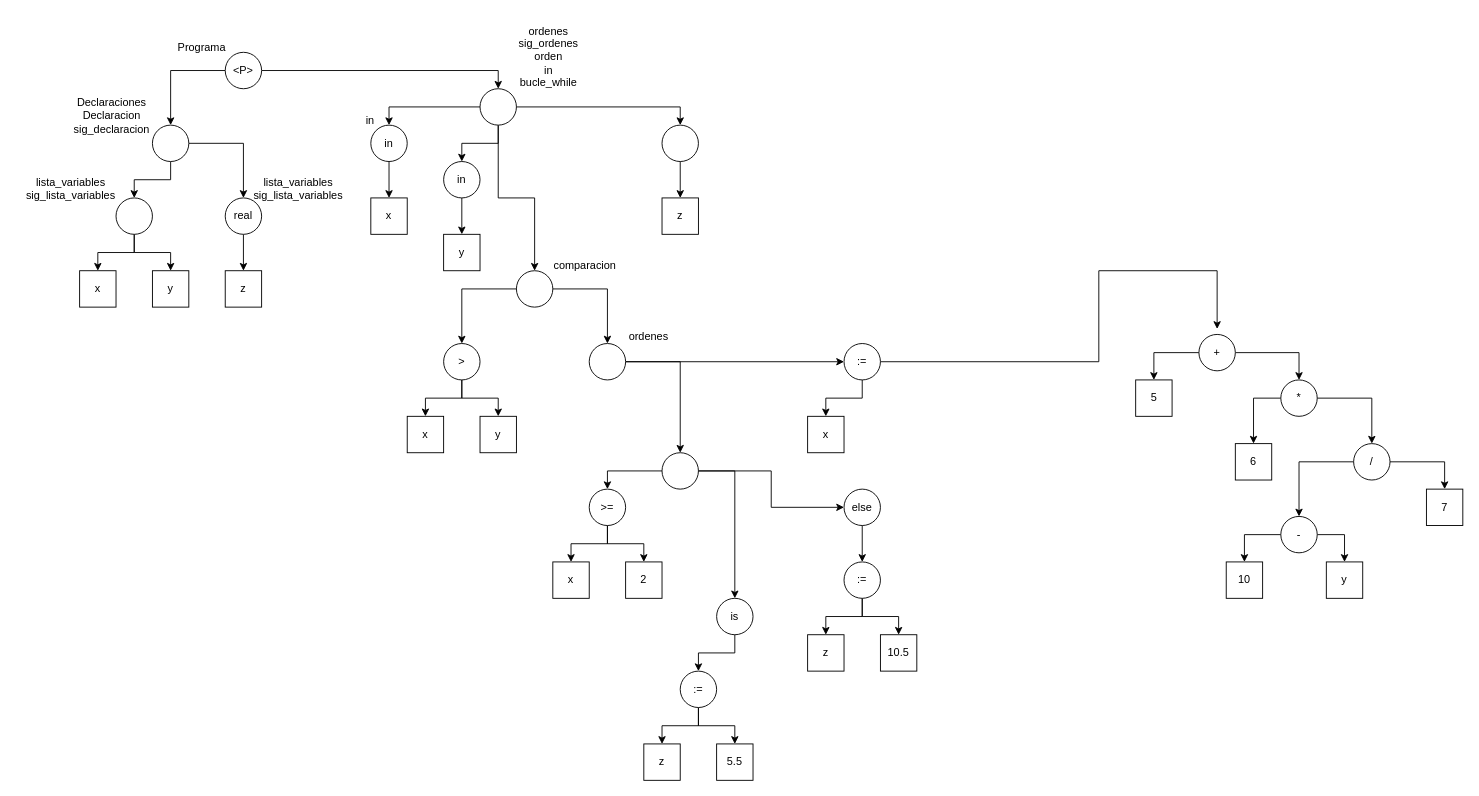
This 1479x796 diagram has some shape labels left out. The centre of each missing label's shape, as x and y in pixels:
"<D>" goes at [170,143].
"<O>" goes at [497,106].
"entero" goes at [133,215].
"if" goes at [679,470].
"out" goes at [679,143].
"while" goes at [534,288].
"ws" goes at [607,361].
